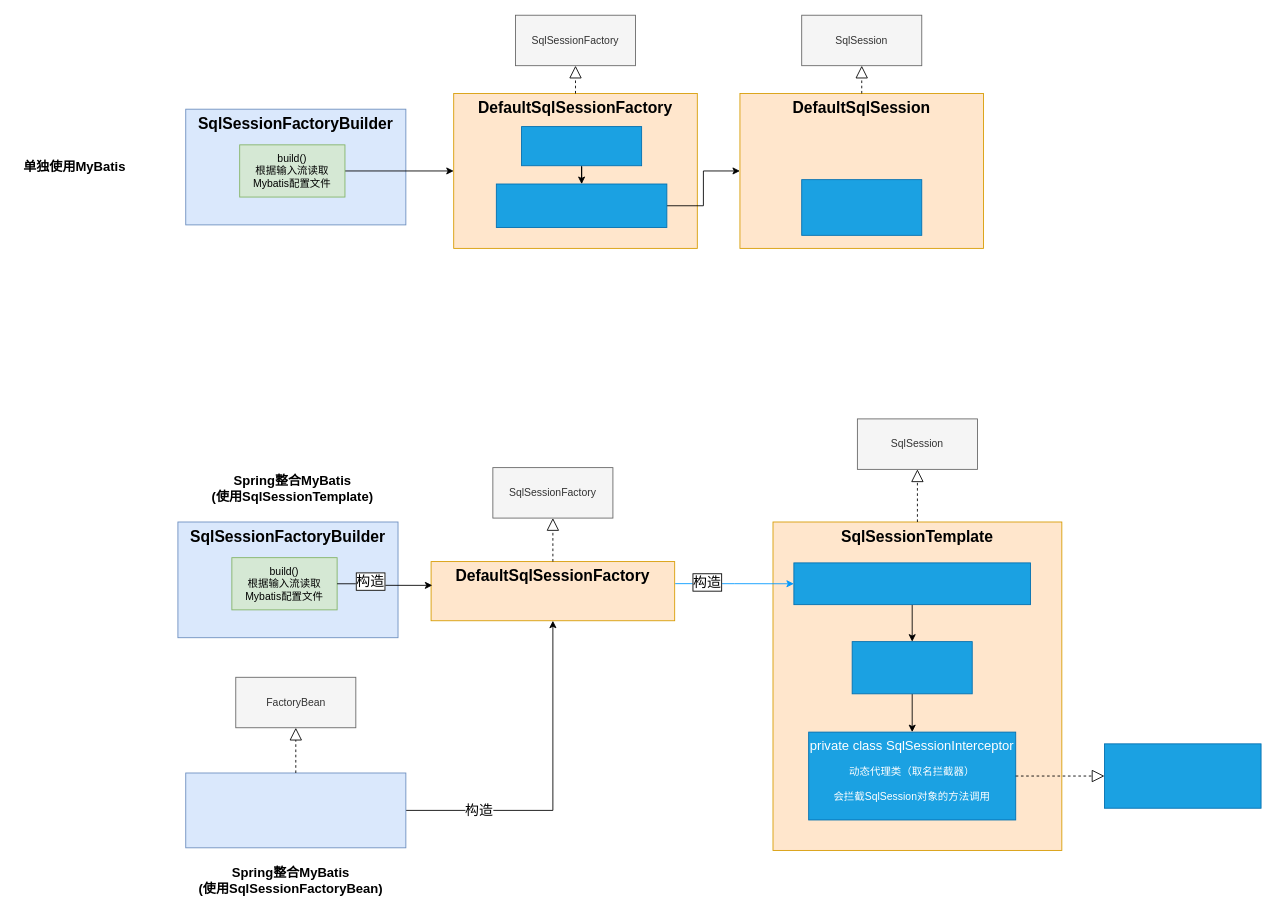
The diagram is 1276 pixels wide and 920 high, and some of its shapes have lost their labels. Each missing label, with the centre of its shape:
getMapper() 获取数据库数据 转换为对应的 Mapper/DAO: [861,207]
InvocationHandler JDK实现动态代理的接口: [1182,775]
openSession() 打开会话: [581,146]
openSessionFromDataSource(): [581,205]
SqlSessionFactoryBean 提供SqlSessionFactory: [295,810]
SqlSessionTemplate(SqlSessionFactory) 构造函数: [912,583]
创建SqlSessionProxy: [911,667]
